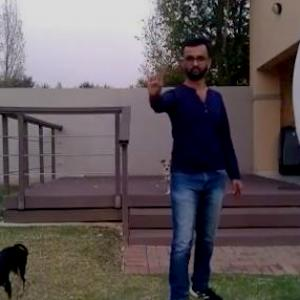takeoff-hand: (138, 61, 166, 95)
